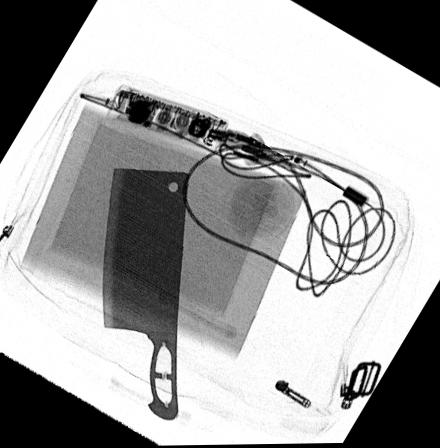Knife: (101, 168, 190, 422)
